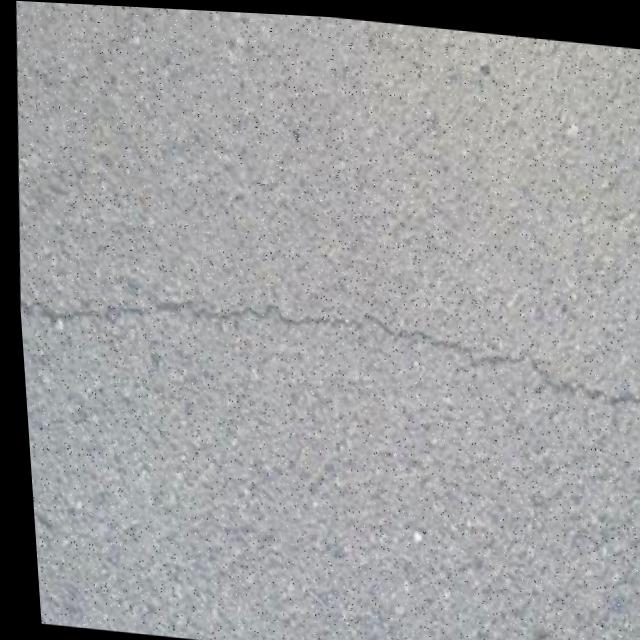Crack: (16, 276, 640, 433)
